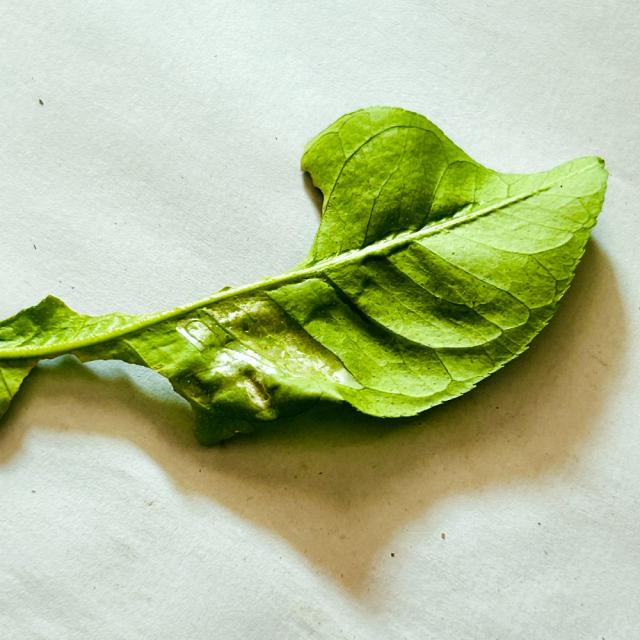Deficiency Leaf: (34, 163, 321, 314), (0, 356, 198, 450)
Lemon: (0, 108, 607, 444)
